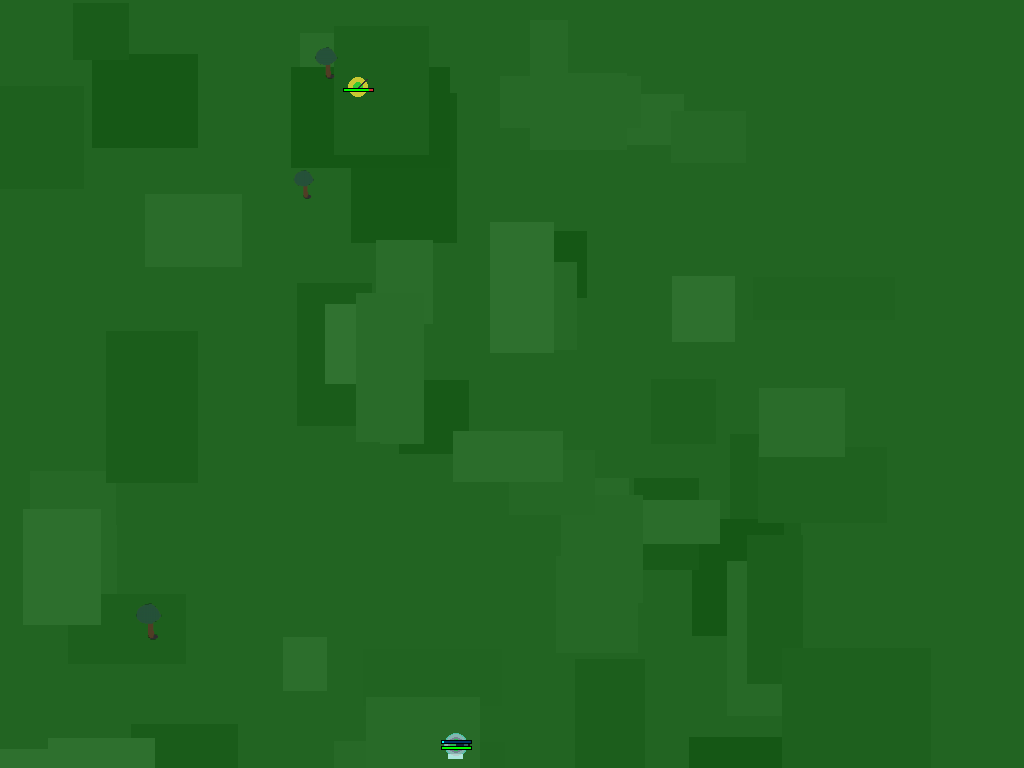CombatEngineer: (340, 69, 377, 106)
Shotgunner: (438, 727, 475, 764)
